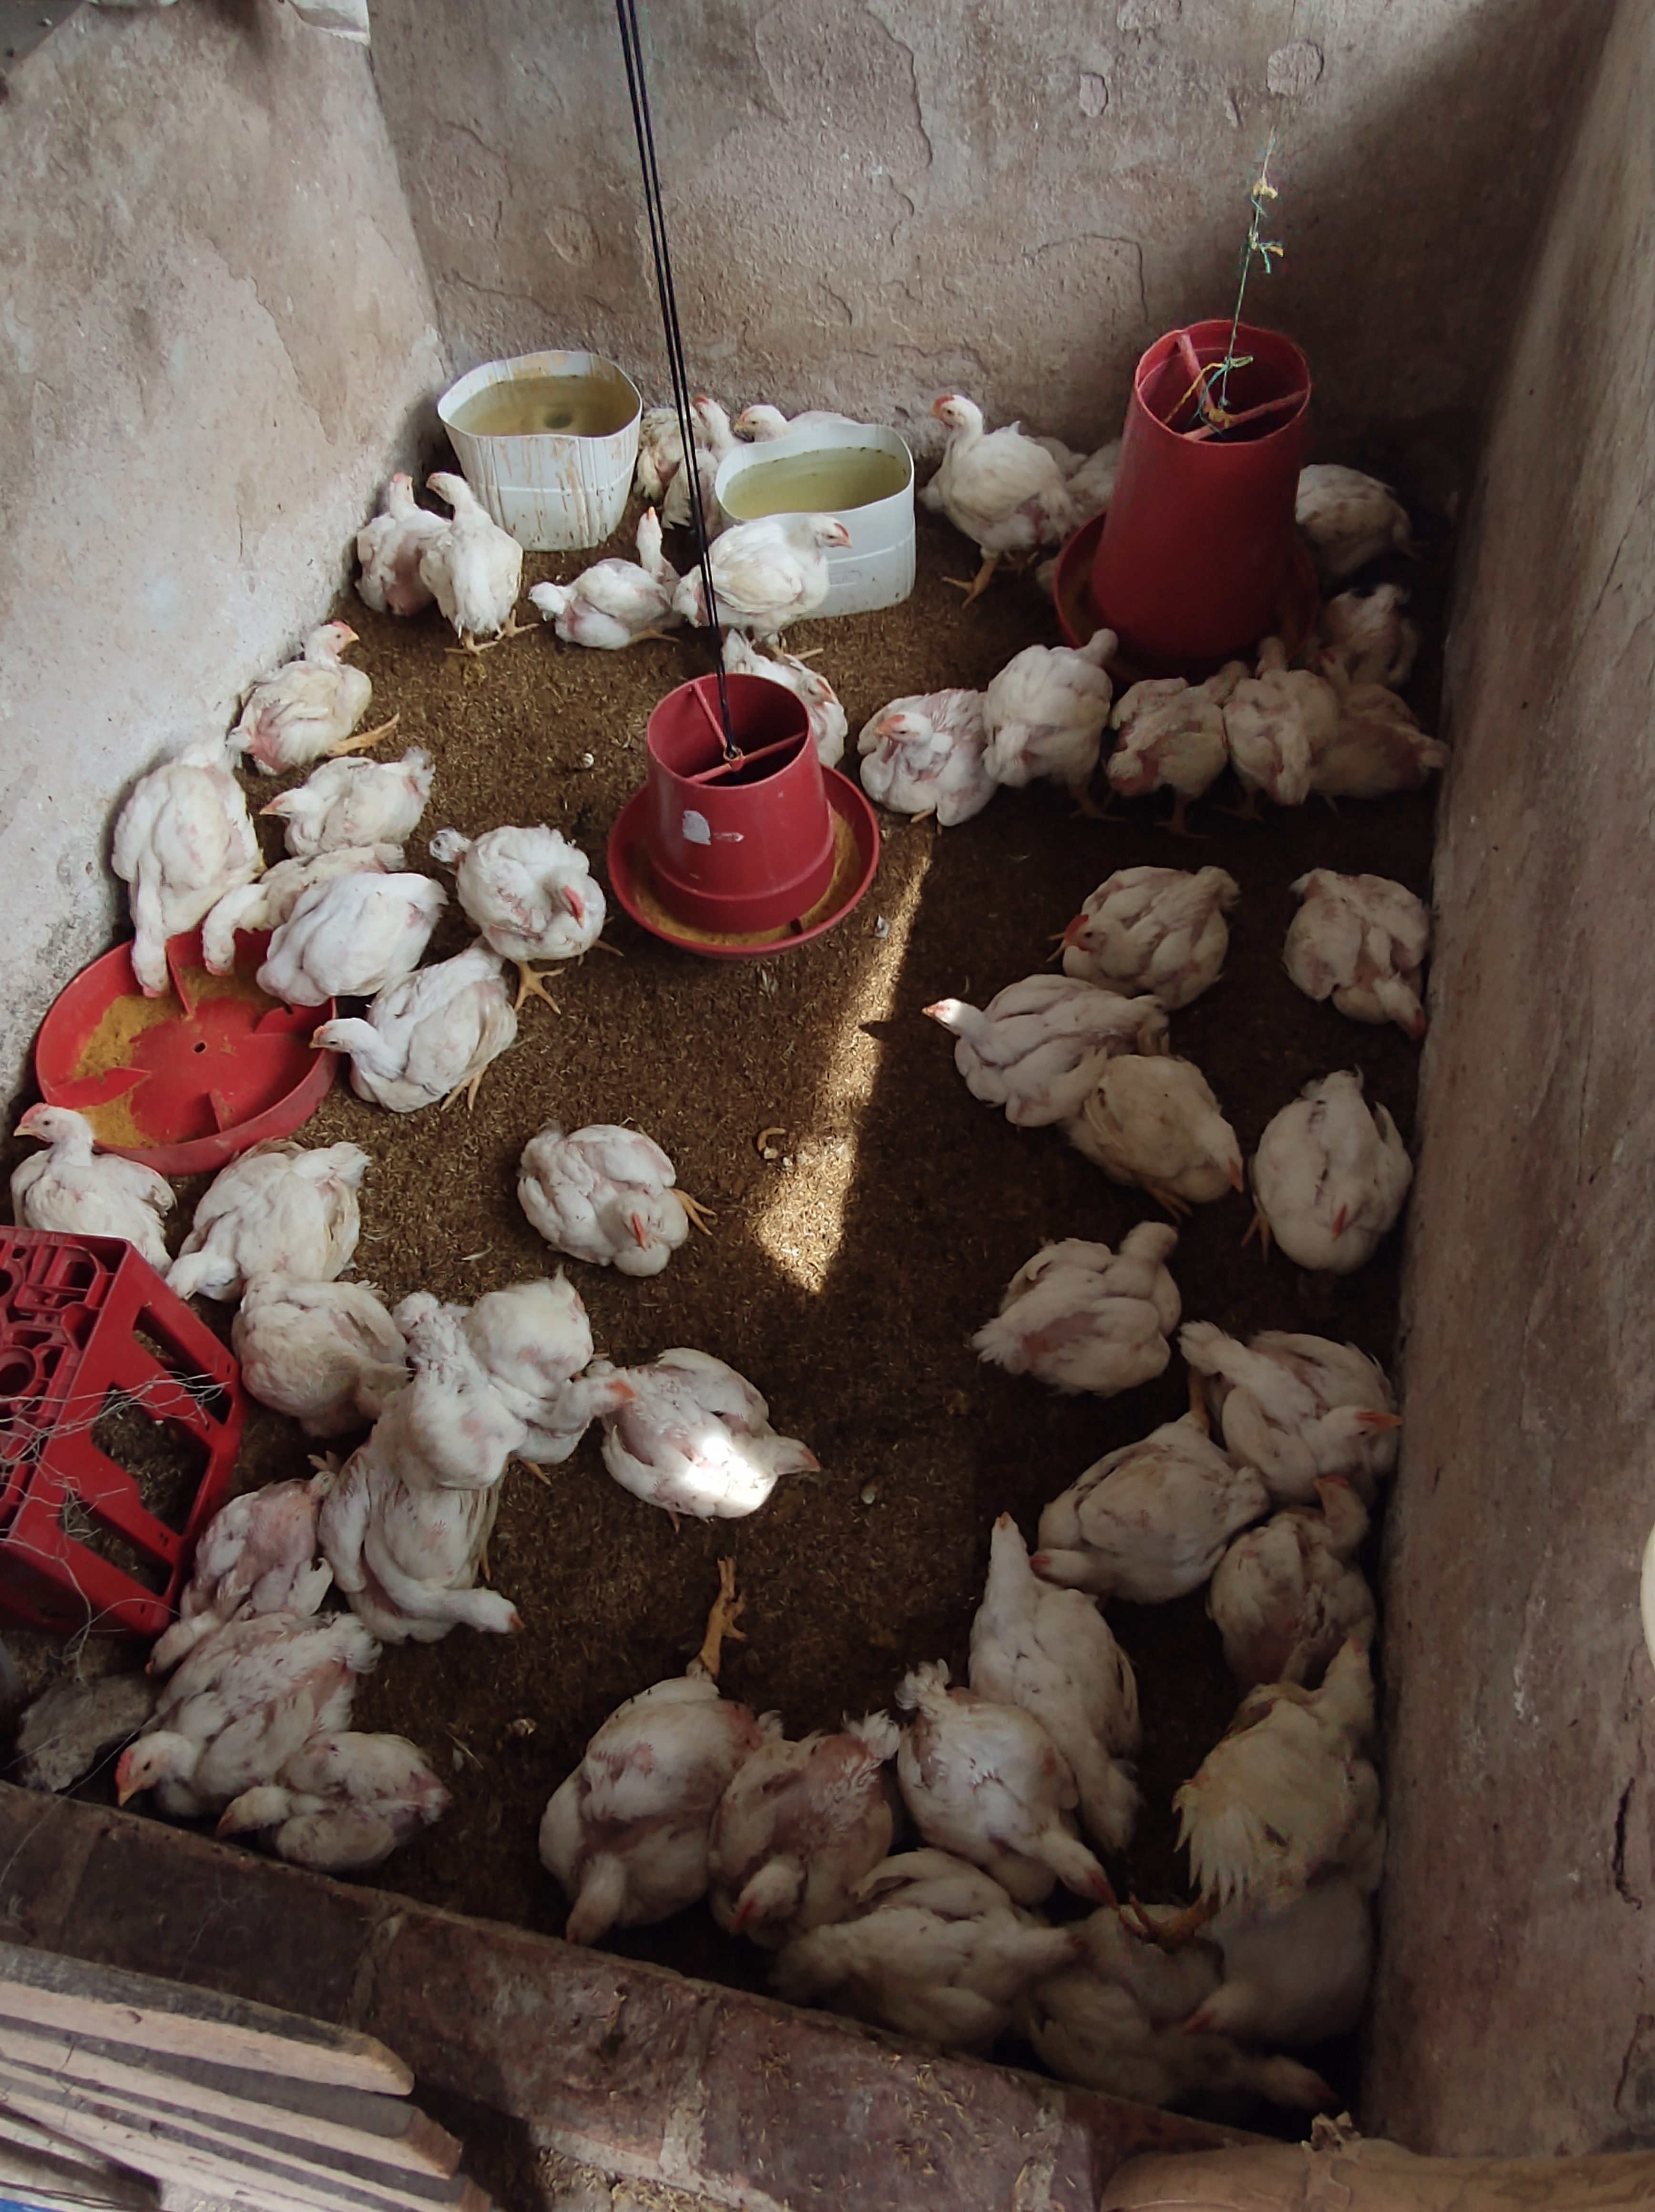Pollos: (899, 1676, 1125, 1913), (1200, 1633, 1379, 1915), (555, 1668, 723, 1942), (708, 1729, 890, 1942), (316, 1475, 530, 1638), (139, 1483, 308, 1682), (628, 1348, 826, 1515), (1194, 1320, 1405, 1476), (452, 1278, 635, 1457), (304, 953, 506, 1115), (993, 1219, 1186, 1381), (169, 1137, 363, 1296), (1034, 1438, 1233, 1591), (1267, 1073, 1412, 1280), (864, 1902, 1092, 2033), (522, 1120, 694, 1271), (1179, 1904, 1365, 2042), (271, 871, 440, 1010), (219, 1732, 422, 1843), (1302, 871, 1438, 1038), (1095, 1056, 1252, 1200), (928, 391, 1080, 536), (918, 981, 1093, 1104), (226, 1282, 415, 1391), (235, 619, 372, 765), (690, 508, 857, 628), (991, 626, 1118, 772), (1053, 866, 1241, 962), (12, 1103, 139, 1231), (471, 831, 605, 951), (422, 468, 523, 626), (118, 767, 186, 1000), (257, 758, 431, 849), (1114, 659, 1250, 774), (563, 504, 671, 642), (977, 1513, 1060, 1689), (110, 1687, 224, 1809), (866, 692, 984, 803), (1245, 631, 1318, 807), (205, 856, 301, 981), (732, 398, 874, 445), (363, 471, 415, 591), (786, 664, 854, 715)
